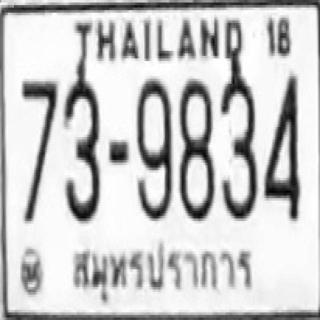N03: (219, 67, 256, 217), (62, 74, 99, 218)
N04: (263, 72, 298, 217)
N07: (19, 79, 57, 221)
N08: (179, 76, 213, 218)
N09: (135, 76, 171, 218)
P57: (66, 236, 263, 310)
